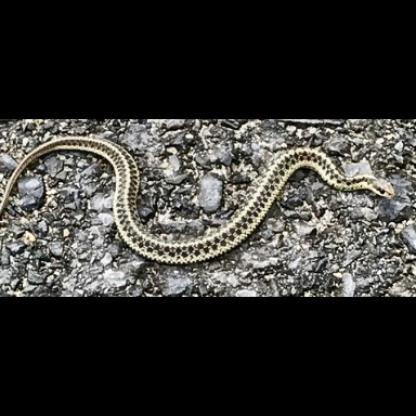Snake: (4, 132, 397, 264)
